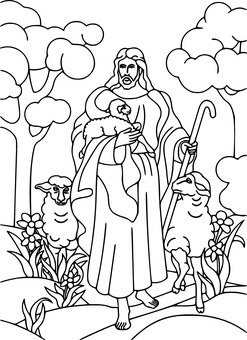person: (67, 45, 206, 333)
sheep: (160, 169, 215, 314), (34, 172, 81, 279), (77, 98, 155, 160)
